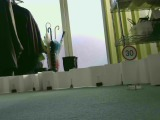speed_30: (120, 44, 138, 61)
